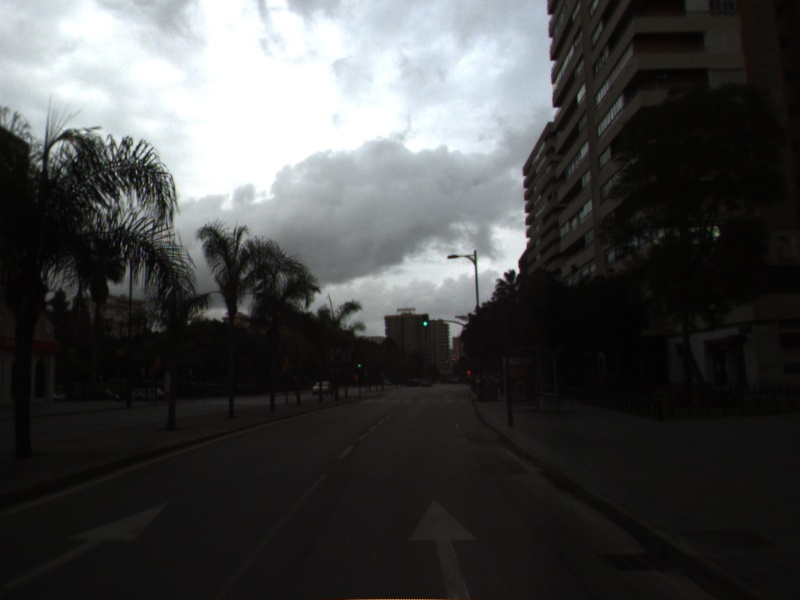STRAIGHT: (1, 499, 172, 600), (404, 498, 484, 600)
